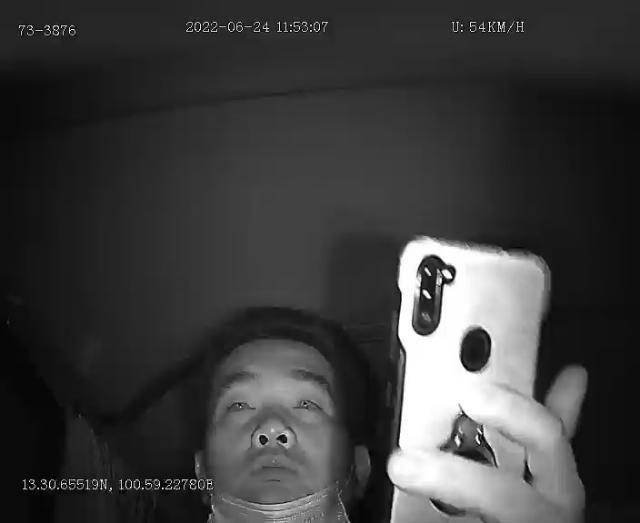PhoneUse: (381, 230, 556, 523)
SafeDriving: (286, 383, 328, 421), (220, 385, 262, 423)
